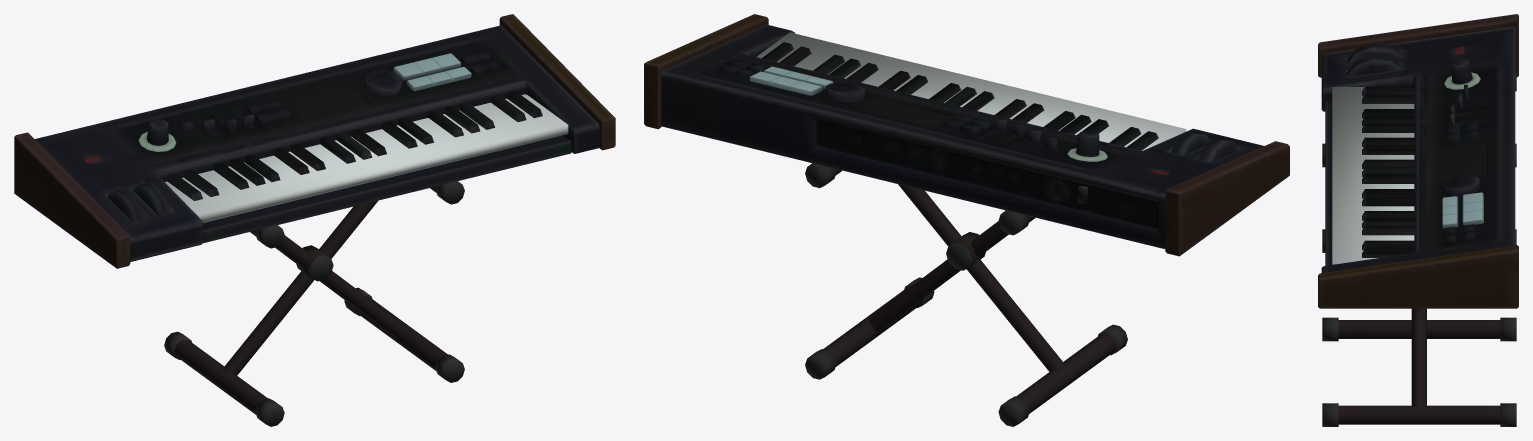
3 renders of one model, left to right at view 1: azimuth 30°, elevation 25°; view 2: azimuth 150°, elevation 25°; view 3: azimuth 270°, elevation 25°, orthographic. The views are drawn at different scales.
Size of the model in its own units: 15.52 by 7.79 by 5.53.
2 materials, 2 textured.
